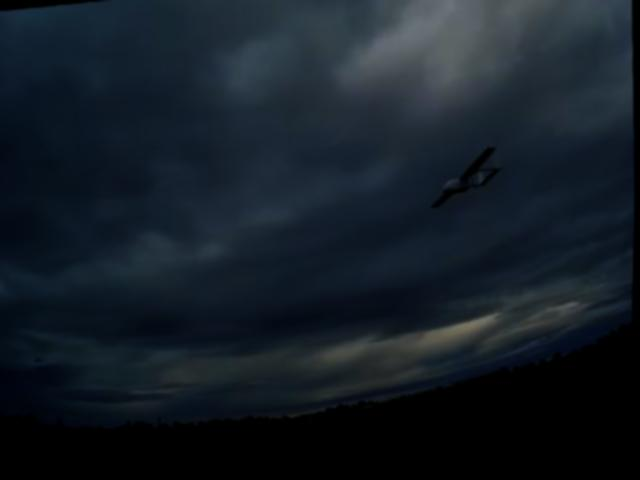uav: (428, 149, 510, 218)
